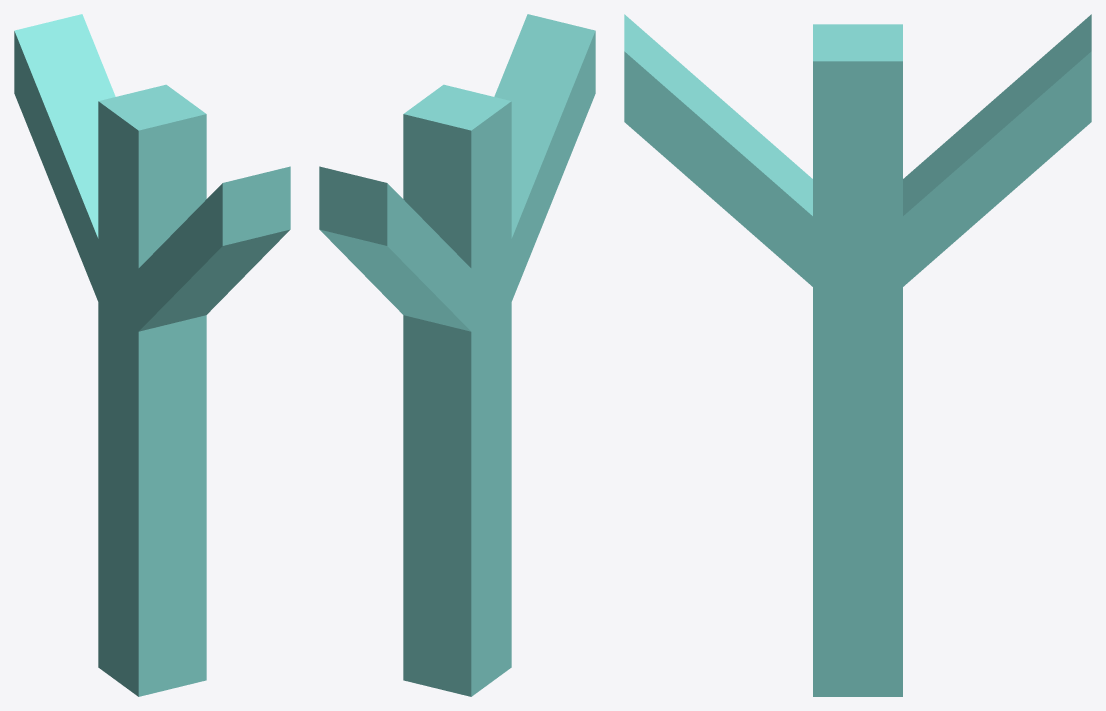
The model's file is Sigil 3.fbx.
3 views of the same model, side by side, from view 1: azimuth 30°, elevation 25°; view 2: azimuth 150°, elevation 25°; view 3: azimuth 270°, elevation 25° (orthographic). The views are drawn at different scales.
Parts seen in each view (by area): view 1: Sigil_3_4; view 2: Sigil_3_4; view 3: Sigil_3_4.
Boxes of the visible parts, bbox=[...] form: Sigil_3_4: bbox=[14, 14, 290, 696]; Sigil_3_4: bbox=[319, 14, 595, 696]; Sigil_3_4: bbox=[624, 14, 1091, 696].
Bounding box in the file's own units: 0.1076 × 0.8703 × 0.5709.
